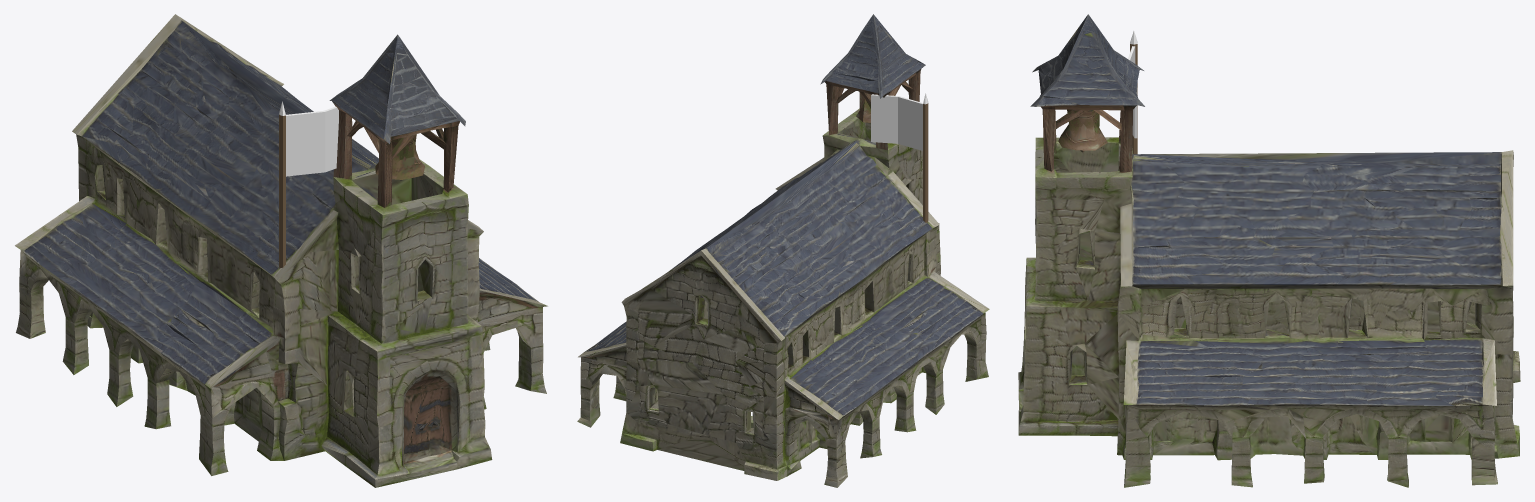
The picture shows the model from 3 angles, left to right: view 1: azimuth 30°, elevation 25°; view 2: azimuth 150°, elevation 25°; view 3: azimuth 270°, elevation 25°; orthographic projection. The views are drawn at different scales.
Parts seen in each view (by area): view 1: temple, Team_banner; view 2: temple, Team_banner; view 3: temple.
Part boxes in pixels (x1,y1,x2,y2): temple: [15, 14, 547, 487]; Team_banner: [279, 101, 338, 268]; temple: [577, 14, 989, 487]; Team_banner: [871, 93, 928, 222]; temple: [1018, 14, 1520, 487].
Bounding box in the file's own units: 1.41 × 1.65 × 1.89.
3 materials, 1 textured.
